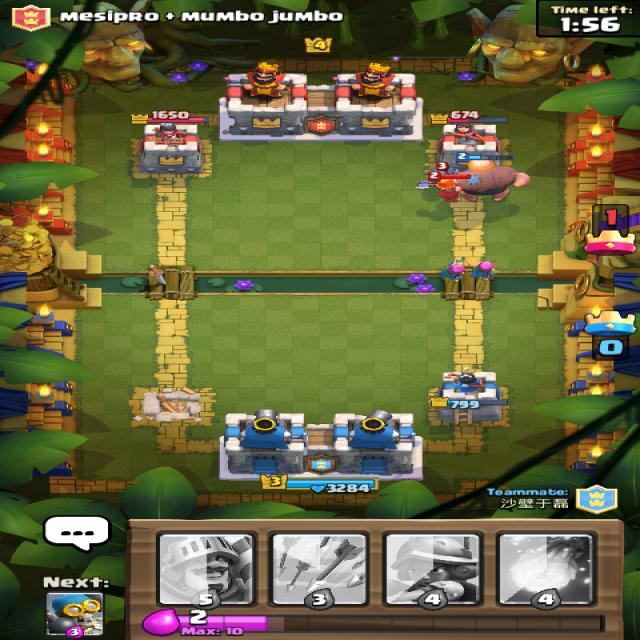Enemy-MiniPEKKA: (430, 160, 454, 174)
Enemy-Valkyrie: (425, 170, 471, 202)
Player-Archer: (435, 256, 469, 282), (468, 258, 500, 278)
Player-Giant: (452, 152, 531, 202)
